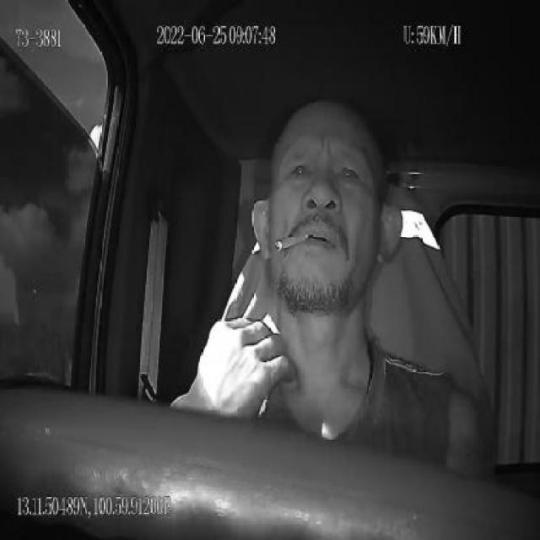smoking: (274, 228, 309, 254)
